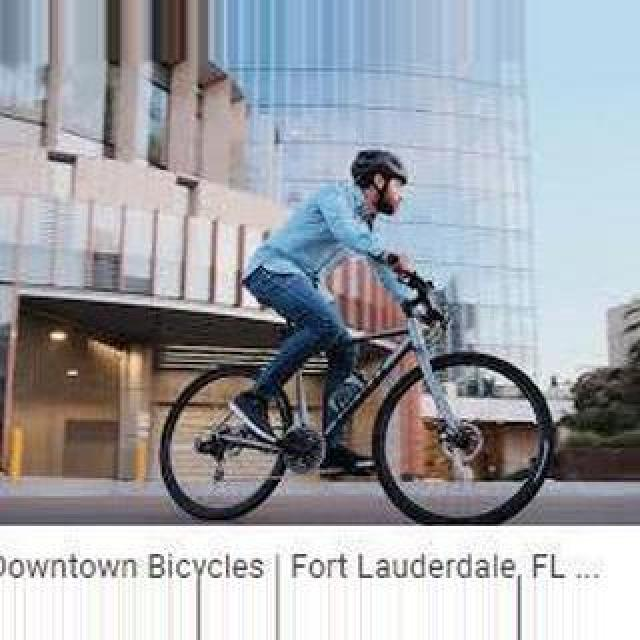MC-Bike: (234, 142, 444, 480)
Person: (156, 261, 554, 525)
